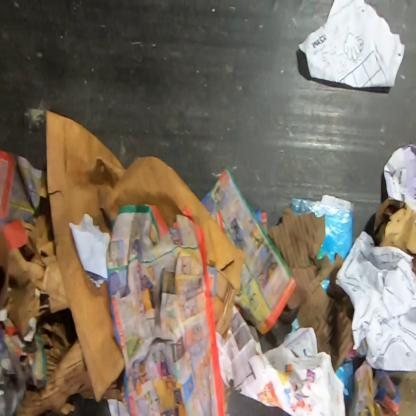cardboard: (44, 109, 247, 403), (0, 208, 96, 415), (267, 206, 335, 310), (296, 254, 355, 373), (371, 197, 415, 276), (386, 370, 415, 415)
soft_plastic: (291, 197, 354, 264), (335, 359, 354, 400), (320, 274, 331, 292), (290, 318, 300, 333)
